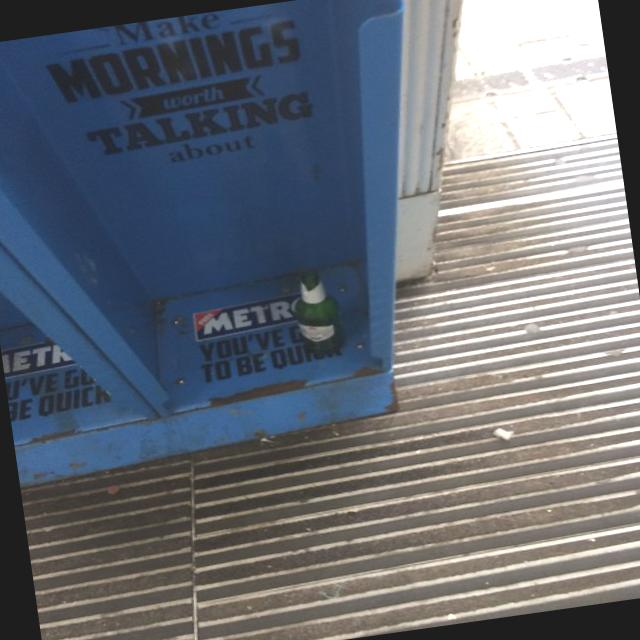Recycle: (290, 264, 350, 366)
